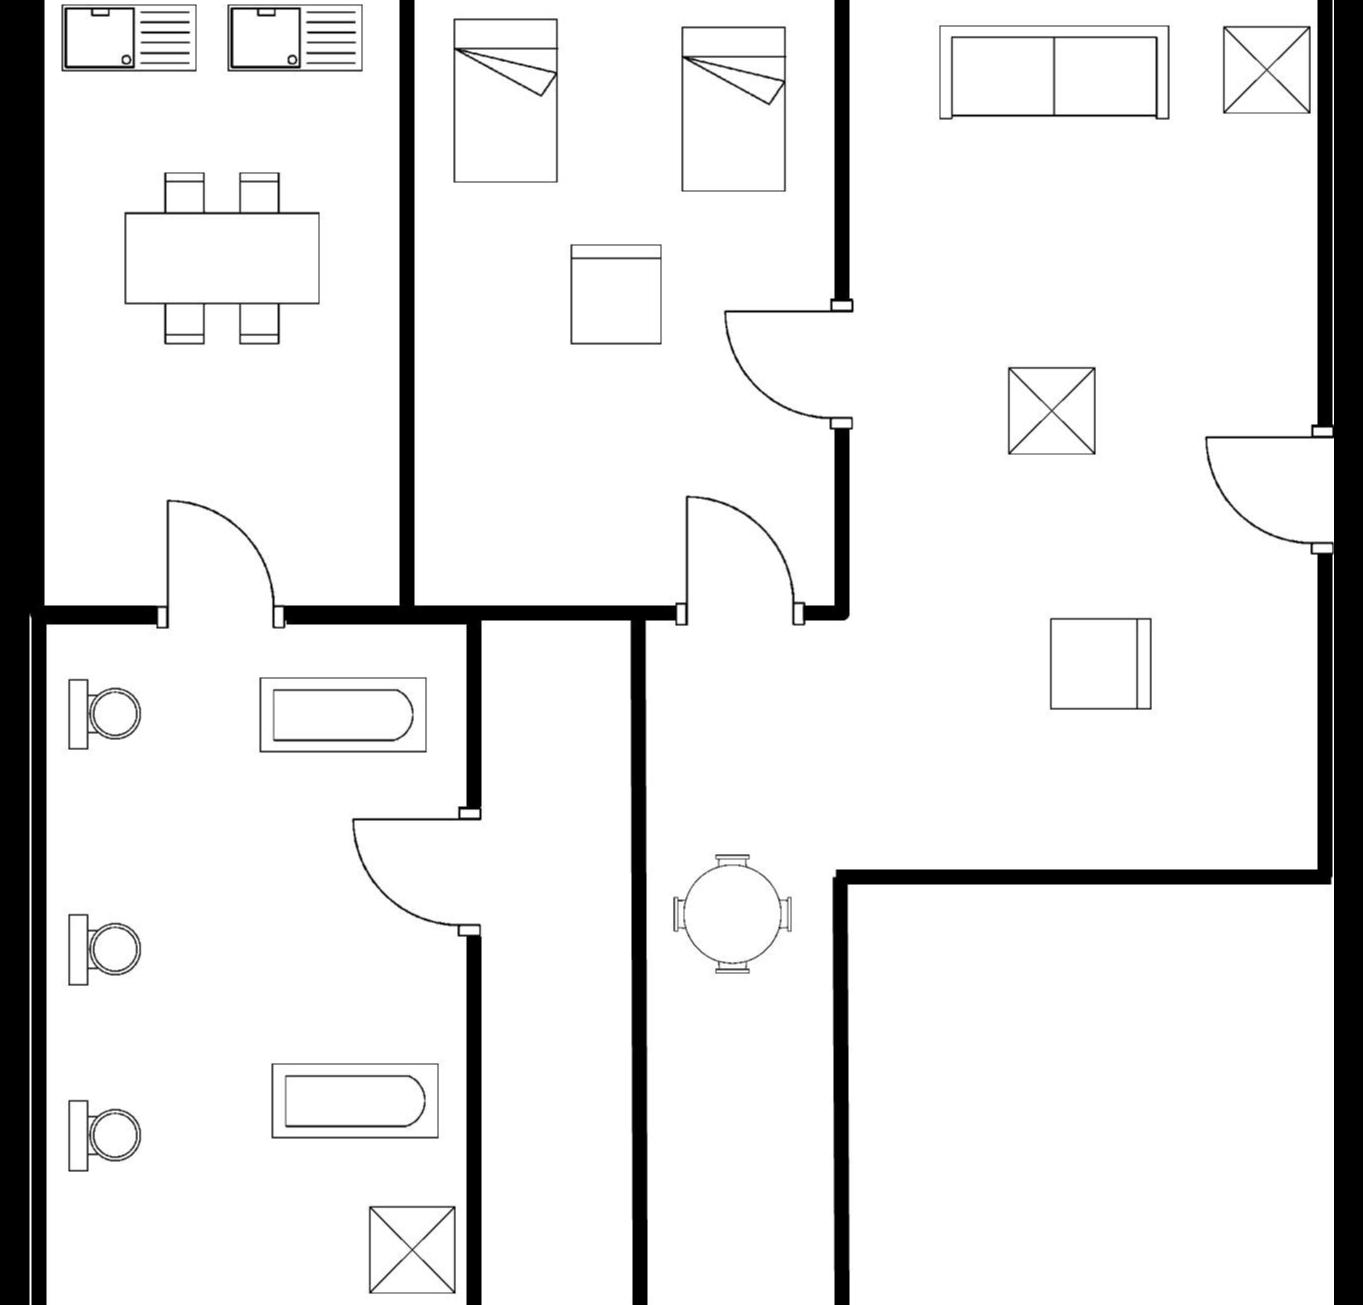bed: (671, 15, 793, 200), (442, 9, 565, 189)
dining_table: (113, 163, 330, 357)
round_table: (660, 841, 798, 981)
sink: (55, 0, 204, 85), (218, 0, 369, 77)
sofa: (927, 11, 1178, 130)
toilet: (58, 663, 142, 762), (60, 903, 150, 995), (58, 1083, 147, 1176)
tub: (260, 1053, 445, 1146), (249, 666, 431, 760)
